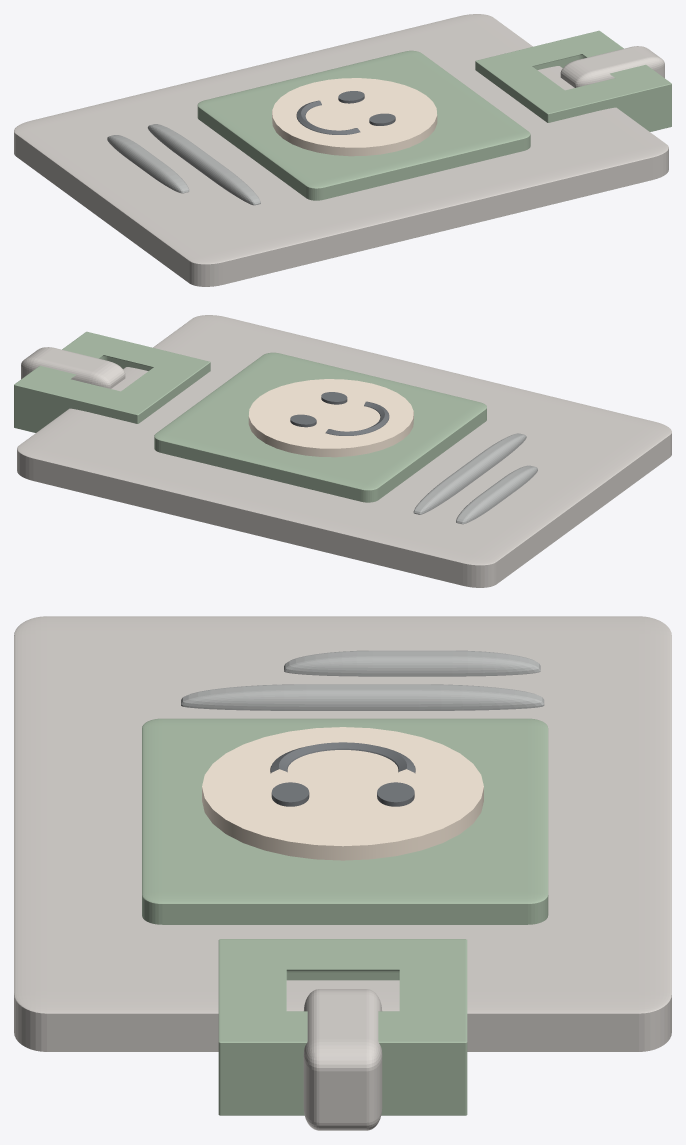
The model's file is IDCard.ul.fbx.
The picture shows the model from 3 angles, top to bottom: view 1: azimuth 30°, elevation 25°; view 2: azimuth 150°, elevation 25°; view 3: azimuth 270°, elevation 25°; orthographic projection. The views are drawn at different scales.
Parts seen in each view (by area): view 1: card, card.003, card.001, Cylinder, card.002, card.004, card.005, Torus; view 2: card, card.003, card.001, Cylinder, card.002, card.004, card.005, Torus; view 3: card, card.003, card.001, Cylinder, card.002, card.004, card.005, Torus, Cylinder.001, Cylinder.002.
Part boxes in pixels (x1=…): card: x1=14, y1=14, x2=668, y2=286; card.003: x1=197, y1=50, x2=530, y2=200; card.001: x1=475, y1=30, x2=671, y2=131; Cylinder: x1=272, y1=78, x2=437, y2=156; card.002: x1=560, y1=46, x2=664, y2=87; card.004: x1=147, y1=124, x2=260, y2=205; card.005: x1=107, y1=135, x2=189, y2=193; Torus: x1=296, y1=100, x2=360, y2=134; card: x1=17, y1=315, x2=671, y2=587; card.003: x1=154, y1=352, x2=486, y2=502; card.001: x1=14, y1=331, x2=210, y2=432; Cylinder: x1=248, y1=379, x2=413, y2=457; card.002: x1=21, y1=347, x2=125, y2=388; card.004: x1=413, y1=433, x2=526, y2=514; card.005: x1=456, y1=465, x2=537, y2=524; Torus: x1=325, y1=401, x2=389, y2=435; card: x1=14, y1=616, x2=671, y2=1051; card.003: x1=142, y1=718, x2=548, y2=924; card.001: x1=218, y1=939, x2=467, y2=1115; Cylinder: x1=202, y1=727, x2=483, y2=860; card.002: x1=303, y1=989, x2=382, y2=1130; card.004: x1=181, y1=684, x2=544, y2=710; card.005: x1=284, y1=650, x2=540, y2=676; Torus: x1=270, y1=742, x2=415, y2=773; Cylinder.001: x1=377, y1=782, x2=414, y2=806; Cylinder.002: x1=271, y1=782, x2=309, y2=806.
Size of the model in its own units: 23.24 by 2.49 by 14.
